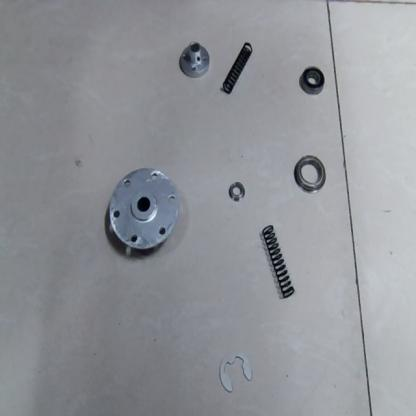FOD: (5, 0, 402, 413), (104, 163, 182, 256), (260, 222, 296, 305), (220, 36, 255, 96), (218, 349, 254, 394), (291, 153, 328, 196), (176, 37, 212, 80), (298, 63, 328, 96), (228, 178, 246, 206)
